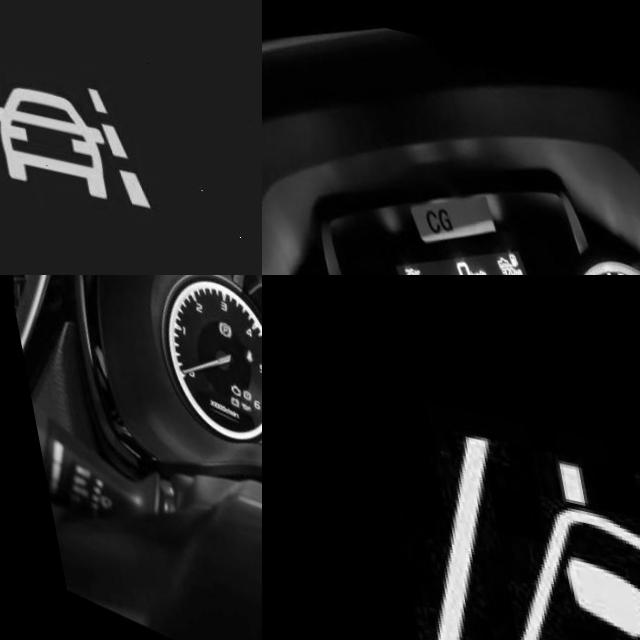Seat Belt: (233, 338, 243, 353)
